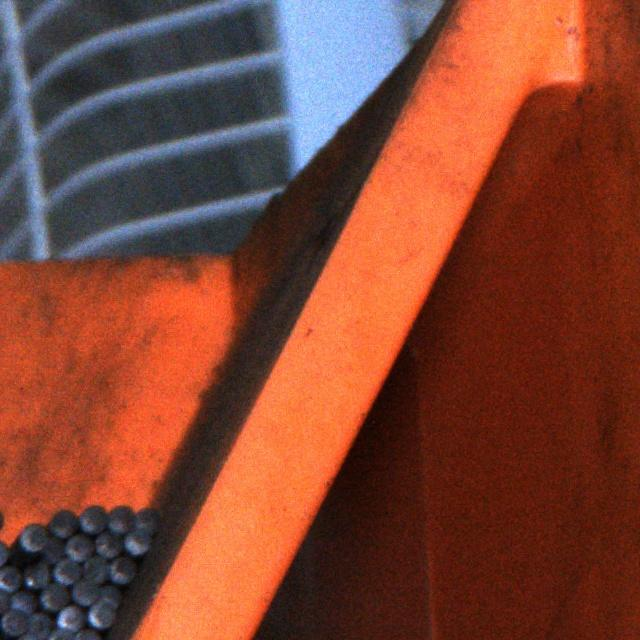tool: (56, 605, 86, 632), (79, 504, 107, 532), (40, 582, 69, 609), (88, 599, 115, 628), (50, 508, 77, 536), (107, 504, 134, 532), (65, 534, 93, 561), (82, 556, 109, 583), (1, 608, 28, 635), (24, 560, 50, 588), (20, 523, 47, 549), (54, 558, 82, 583), (70, 580, 98, 605), (94, 532, 122, 556), (134, 507, 160, 532), (110, 556, 134, 583), (124, 529, 149, 554), (10, 591, 37, 614), (28, 612, 52, 637), (41, 538, 64, 563), (0, 565, 21, 592), (98, 585, 122, 607), (73, 628, 101, 640), (46, 628, 73, 640), (0, 588, 10, 614)
